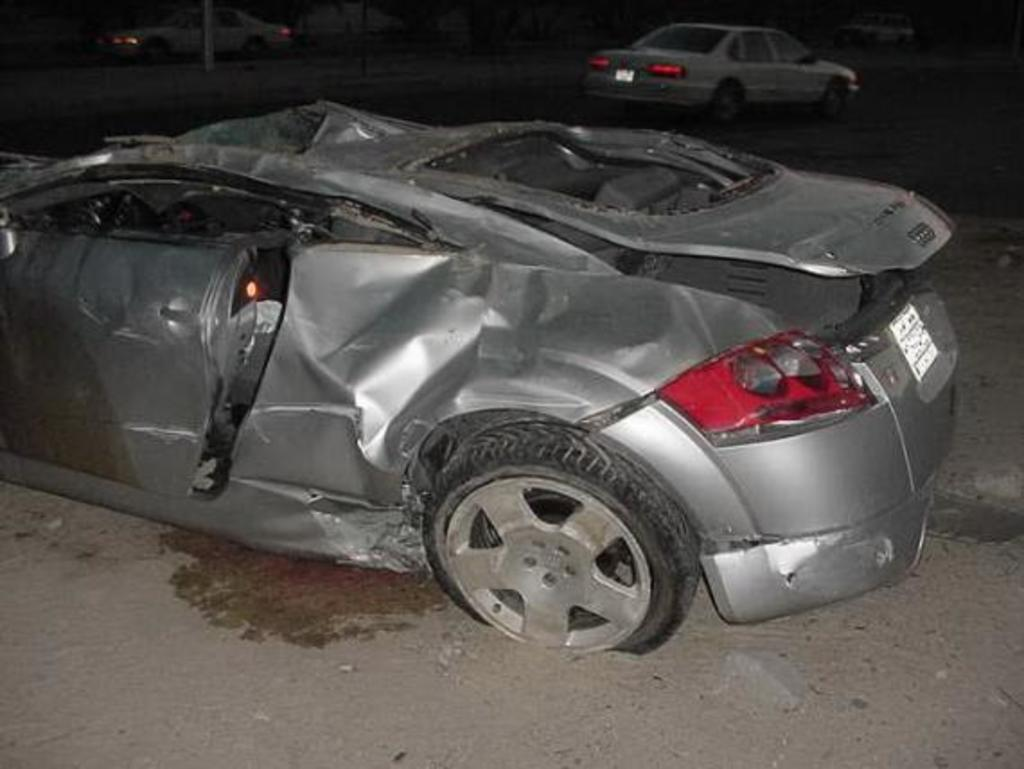Car: (0, 96, 958, 659), (580, 18, 860, 126), (108, 6, 292, 60)
